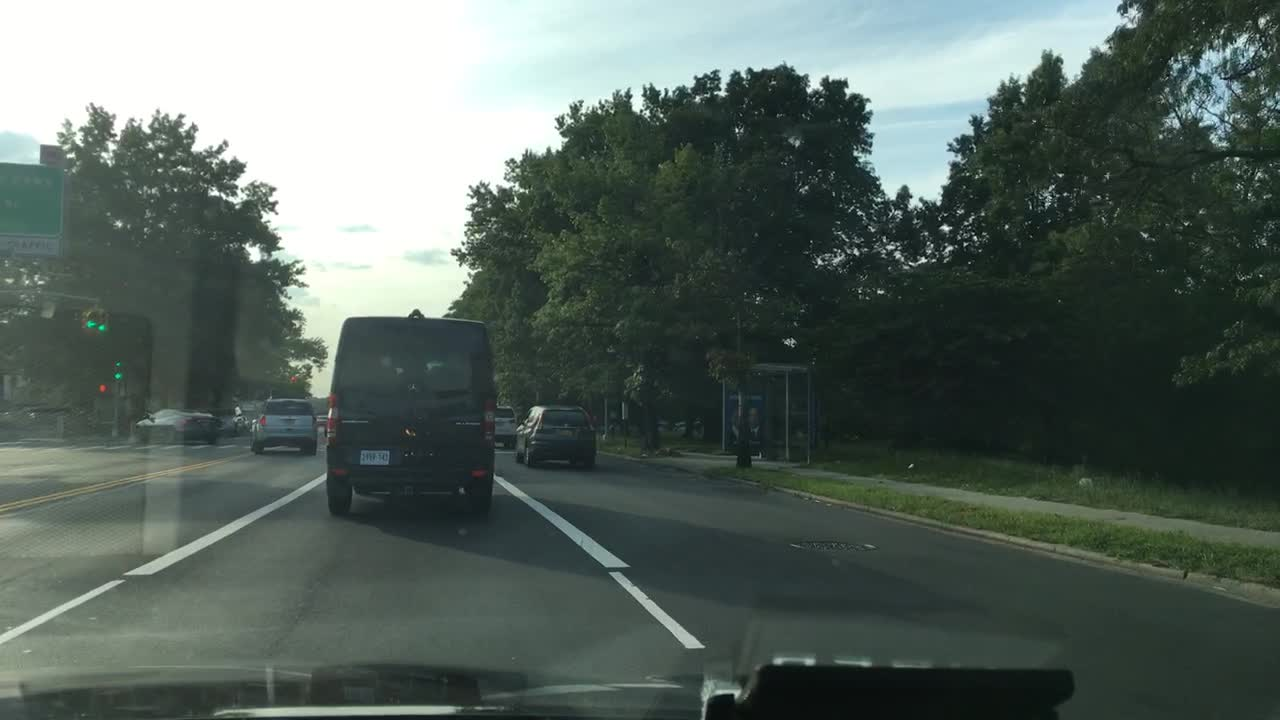car: (322, 307, 500, 520), (511, 402, 594, 468), (247, 397, 319, 459), (135, 406, 220, 447), (0, 403, 96, 438), (493, 406, 518, 451), (221, 408, 246, 436), (673, 419, 696, 436), (314, 414, 329, 430)
traffic light: (96, 307, 109, 336), (81, 307, 96, 330), (97, 379, 115, 394), (112, 360, 124, 381)
traffic sign: (0, 165, 70, 258), (40, 143, 66, 163), (39, 303, 54, 318)
